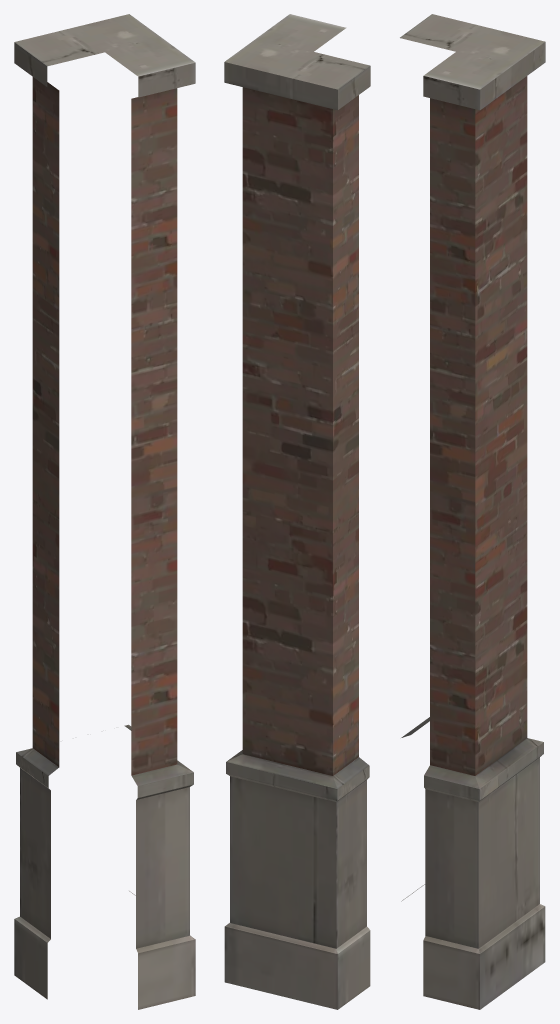
3 views of the same model, side by side, from view 1: azimuth 30°, elevation 25°; view 2: azimuth 150°, elevation 25°; view 3: azimuth 330°, elevation 25° (orthographic).
Visible parts, largest first — view 1: body0_model0_lod0_mesh0; view 2: body0_model0_lod0_mesh0; view 3: body0_model0_lod0_mesh0.
Part boxes in pixels (x1,y1,x2,y2): body0_model0_lod0_mesh0: (14,14,195,1009); body0_model0_lod0_mesh0: (224,14,370,1009); body0_model0_lod0_mesh0: (400,14,545,1009).
Bounding box in the file's own units: 40.12 × 311 × 40.12.
1 material, 1 textured.
